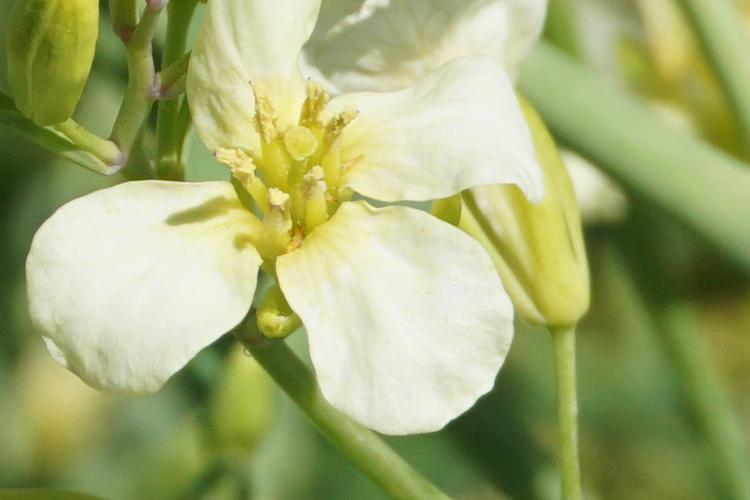bud: (11, 3, 87, 126)
white: (48, 6, 527, 421)
